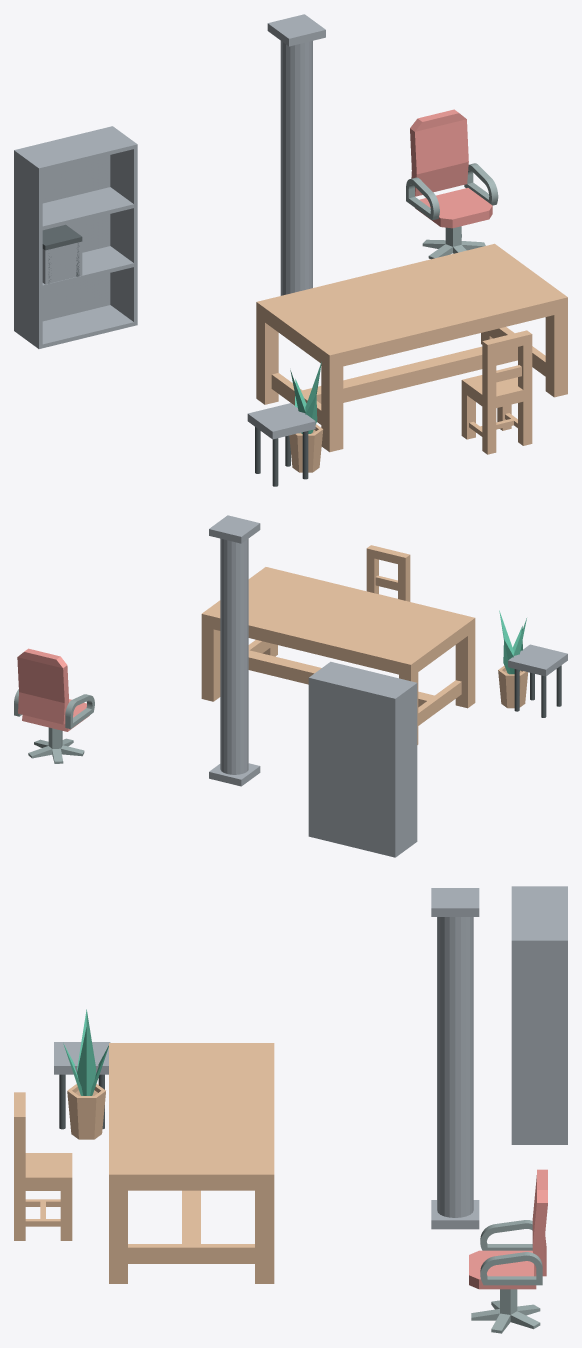
3 renders of one model, top to bottom at view 1: azimuth 30°, elevation 25°; view 2: azimuth 150°, elevation 25°; view 3: azimuth 270°, elevation 25°, orthographic. The views are drawn at different scales.
Parts seen in each view (by area): view 1: table_green__table(Clone), column_cyan__column_cyan shaft, deskchair_black__chair, chair_cyan__chair(Clone), shelf_orange__shelf_orange back, shelf_orange__shelf_orange side_l, shelf_orange__shelf_orange side_r, shelf_orange__shelf_orange board3, shelf_orange__shelf_orange board2, shelf_orange__shelf_orange board0, stool_purple__stool_purple seat, box_yellow__box_yellow shell (+6 smaller); view 2: table_green__table(Clone), shelf_orange__shelf_orange back, column_cyan__column_cyan shaft, deskchair_black__chair, shelf_orange__shelf_orange side_l, chair_cyan__chair(Clone), shelf_orange__shelf_orange board3, stool_purple__stool_purple seat, column_cyan__column_cyan capital, deskchair_black__chairDesk(Clone), plant_pink__pottedPlant(Clone), shelf_orange__shelf_orange side_r (+2 smaller); view 3: table_green__table(Clone), shelf_orange__shelf_orange side_r, column_cyan__column_cyan shaft, deskchair_black__chair, chair_cyan__chair(Clone), shelf_orange__shelf_orange board3, plant_pink__pottedPlant(Clone), deskchair_black__chairDesk(Clone), column_cyan__column_cyan capital, plant_pink__plant, stool_purple__stool_purple seat, column_cyan__column_cyan plinth.
Part boxes in pixels (x1,y1,x2,y2): table_green__table(Clone): (256,243,567,452); column_cyan__column_cyan shaft: (280,41,312,295); deskchair_black__chair: (406,109,498,228); chair_cyan__chair(Clone): (461,330,532,454); shelf_orange__shelf_orange back: (18,127,110,321); shelf_orange__shelf_orange side_l: (14,149,42,348); shelf_orange__shelf_orange side_r: (109,126,137,325); shelf_orange__shelf_orange board3: (19,128,133,171); shelf_orange__shelf_orange board2: (42,187,133,230); shelf_orange__shelf_orange board0: (42,305,133,347); stool_purple__stool_purple seat: (247,403,315,439); box_yellow__box_yellow shell: (42,241,82,284); table_green__table(Clone): (201,567,475,744); shelf_orange__shelf_orange back: (312,677,392,856); column_cyan__column_cyan shaft: (220,538,248,774); deskchair_black__chair: (14,648,94,731); shelf_orange__shelf_orange side_l: (392,682,417,857); chair_cyan__chair(Clone): (366,545,410,601); shelf_orange__shelf_orange board3: (313,662,413,696); stool_purple__stool_purple seat: (508,644,567,676); column_cyan__column_cyan capital: (209,515,260,543); deskchair_black__chairDesk(Clone): (28,727,84,763); plant_pink__pottedPlant(Clone): (498,665,527,708); shelf_orange__shelf_orange side_r: (308,661,333,837); table_green__table(Clone): (109,1043,274,1283); shelf_orange__shelf_orange side_r: (511,938,567,1144); column_cyan__column_cyan shaft: (437,917,473,1217); deskchair_black__chair: (469,1169,547,1289); chair_cyan__chair(Clone): (14,1092,72,1240); shelf_orange__shelf_orange board3: (511,888,564,938); plant_pink__pottedPlant(Clone): (67,1084,105,1139); deskchair_black__chairDesk(Clone): (471,1289,540,1333); column_cyan__column_cyan capital: (431,888,479,916); plant_pink__plant: (63,1009,108,1095); stool_purple__stool_purple seat: (54,1042,110,1074); column_cyan__column_cyan plinth: (431,1200,479,1229).
Size of the model in its own units: 3.61 by 2.2 by 3.44.
